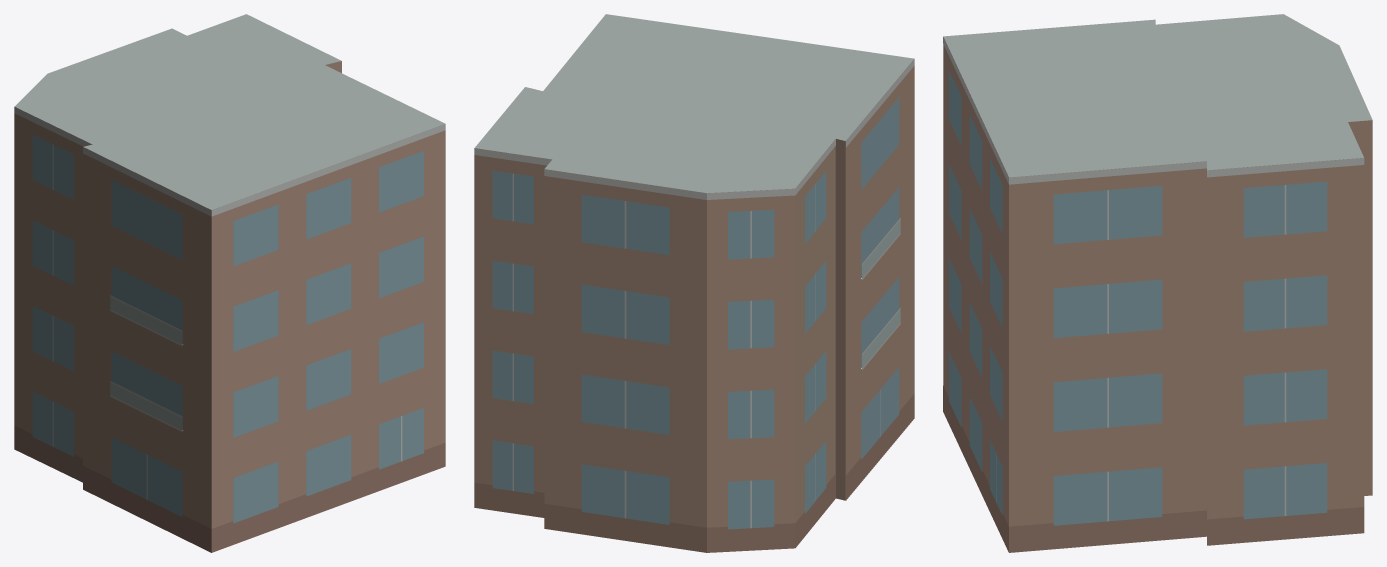
File: survey-upis-32481645.glb
3 views of the same model, side by side, from view 1: azimuth 30°, elevation 25°; view 2: azimuth 150°, elevation 25°; view 3: azimuth 270°, elevation 25° (orthographic). The views are drawn at different scales.
Parts seen in each view (by area): view 1: survey-upis-32481645.tmp; view 2: survey-upis-32481645.tmp; view 3: survey-upis-32481645.tmp.
Part boxes in pixels (x1,y1,x2,y2): survey-upis-32481645.tmp: (14, 14, 445, 552); survey-upis-32481645.tmp: (474, 14, 914, 552); survey-upis-32481645.tmp: (943, 14, 1372, 552).
Bounding box in the file's own units: 11.97 × 12.8 × 13.28.
